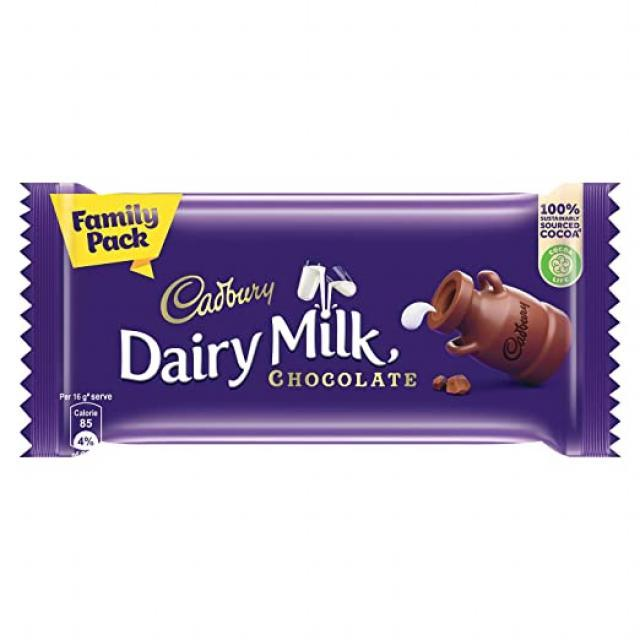cadbury_chocolate: (51, 180, 622, 462)
